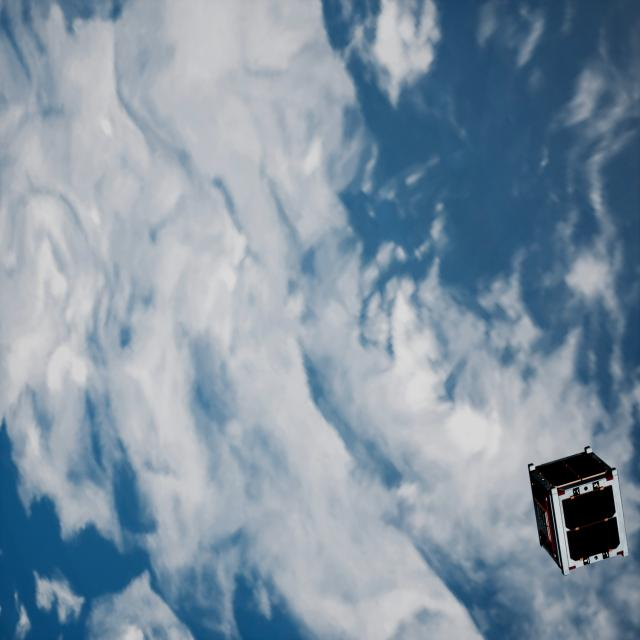satellite: (522, 448, 636, 572)
